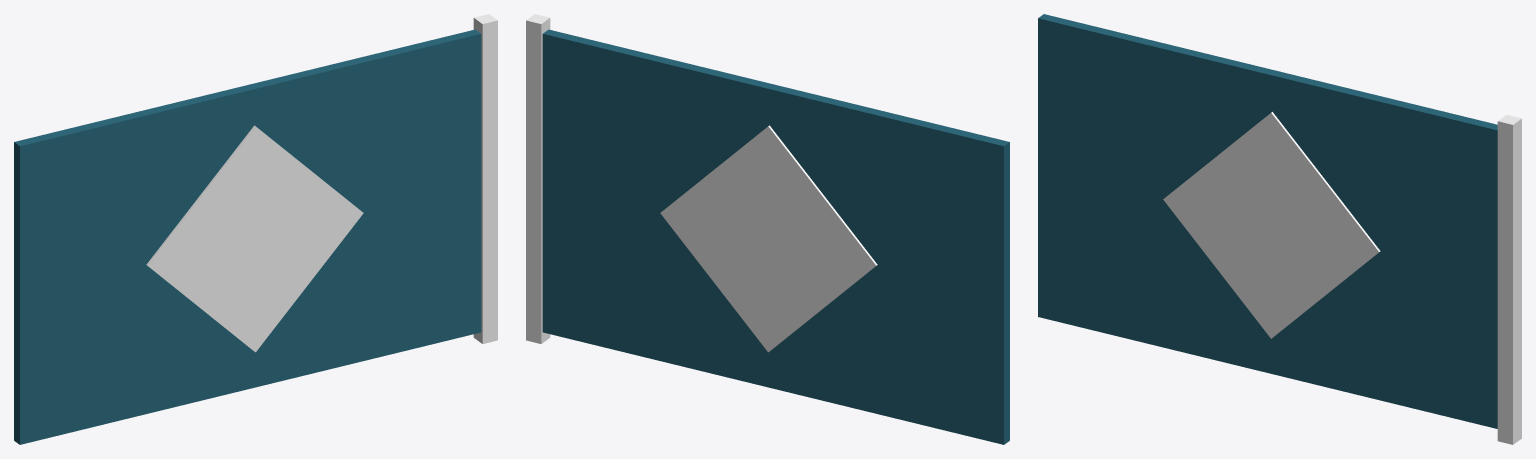
File: decor_flagpole_flag.obj
3 views of the same model, side by side, from view 1: azimuth 30°, elevation 25°; view 2: azimuth 150°, elevation 25°; view 3: azimuth 330°, elevation 25° (orthographic).
Visible parts, largest first — view 1: Body; view 2: Body; view 3: Body.
Boxes of the visible parts, x1,y1,x2,y2 form: Body: [14, 14, 497, 444]; Body: [526, 14, 1009, 444]; Body: [1038, 14, 1521, 444].
Size of the model in its own units: 0.935 by 0.6 by 0.03.
